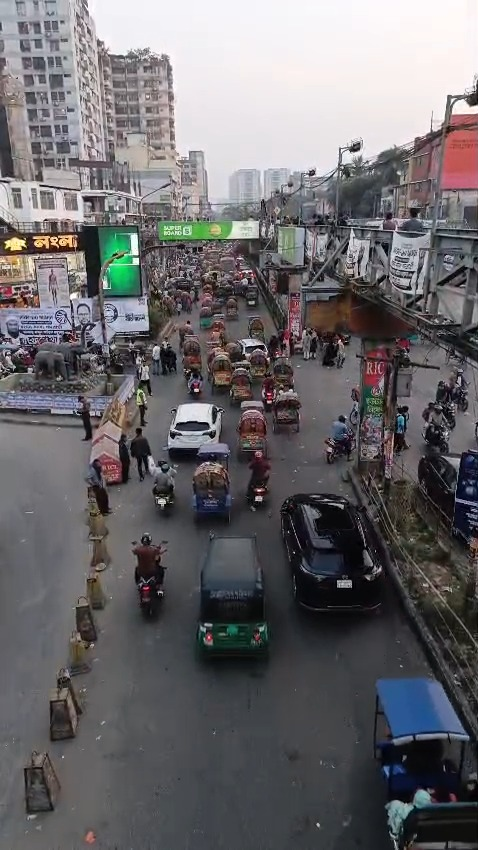Bikes: (424, 369, 478, 444), (133, 532, 161, 621), (247, 454, 278, 514), (326, 415, 359, 463), (153, 453, 175, 519), (187, 368, 206, 395)
auto-ricksaw: (176, 304, 318, 455)
cng: (203, 524, 270, 654)
private car: (287, 484, 376, 616), (421, 443, 478, 531), (168, 398, 221, 452), (241, 336, 267, 359)
